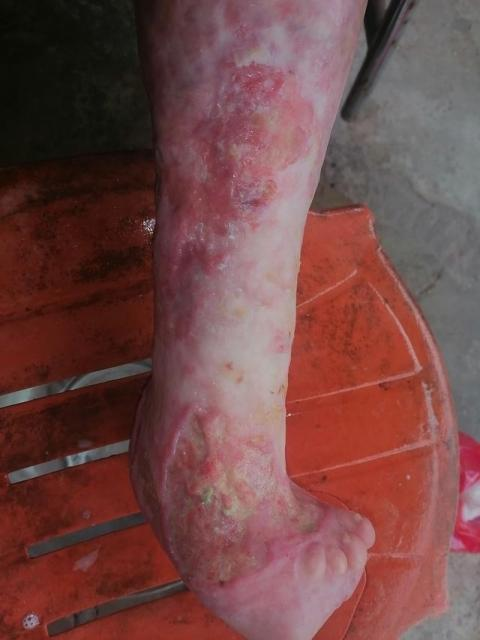wound: (152, 35, 312, 343), (127, 377, 325, 581)
